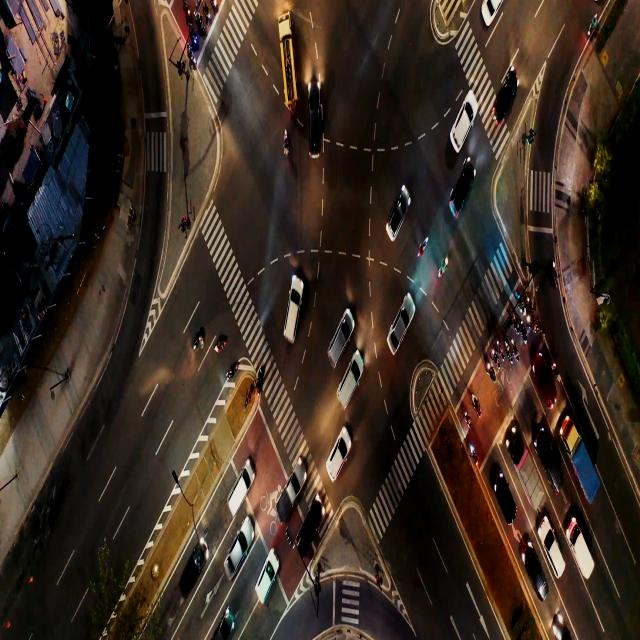bus: (282, 19, 296, 107)
car: (387, 296, 416, 358), (304, 91, 325, 158), (528, 539, 546, 609), (386, 189, 411, 232), (495, 464, 511, 529), (547, 526, 565, 579), (455, 163, 475, 209), (453, 98, 475, 139), (494, 82, 518, 117), (281, 472, 301, 513), (333, 308, 348, 362), (342, 356, 361, 398), (540, 355, 556, 404), (286, 282, 300, 336), (304, 503, 320, 547), (330, 437, 346, 478), (231, 530, 247, 569), (188, 550, 205, 586), (230, 476, 248, 506), (262, 557, 278, 589), (549, 451, 562, 486)
motorcycle: (588, 4, 600, 52), (194, 325, 208, 355), (215, 327, 225, 360), (418, 233, 432, 254), (280, 134, 293, 155), (439, 252, 448, 280), (468, 443, 478, 467), (474, 388, 481, 420), (512, 334, 520, 362), (486, 363, 496, 385), (492, 346, 501, 369), (527, 293, 536, 315), (463, 410, 472, 431), (498, 344, 506, 362), (230, 362, 239, 378), (514, 312, 520, 335), (520, 322, 526, 343), (519, 294, 524, 318), (200, 18, 207, 34), (529, 319, 539, 330), (184, 5, 193, 15), (213, 0, 219, 14), (208, 8, 213, 23), (190, 50, 195, 64), (508, 347, 512, 363), (193, 32, 196, 46)
truck: (572, 418, 598, 505), (572, 522, 588, 576), (521, 448, 533, 498)
